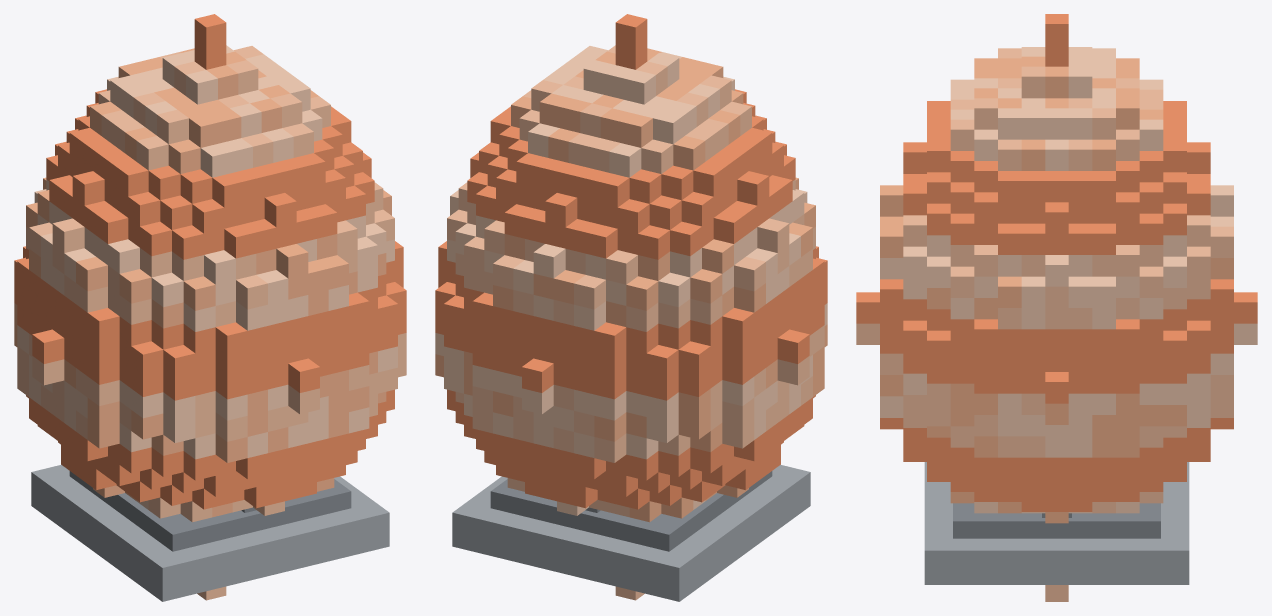
The model's file is egg_comun_melocoton.glb.
3 renders of one model, left to right at view 1: azimuth 30°, elevation 25°; view 2: azimuth 150°, elevation 25°; view 3: azimuth 270°, elevation 25°, orthographic.
Parts seen in each view (by area): view 1: shell_geo, root_geo; view 2: shell_geo, root_geo; view 3: shell_geo, root_geo.
Boxes of the visible parts, <box> form: shell_geo: <box>14,14,406,600</box>; root_geo: <box>31,464,389,601</box>; shell_geo: <box>435,14,827,600</box>; root_geo: <box>452,464,810,601</box>; shell_geo: <box>856,14,1257,601</box>; root_geo: <box>924,462,1189,584</box>.
Size of the model in its own units: 4.25 by 6.75 by 4.25.
